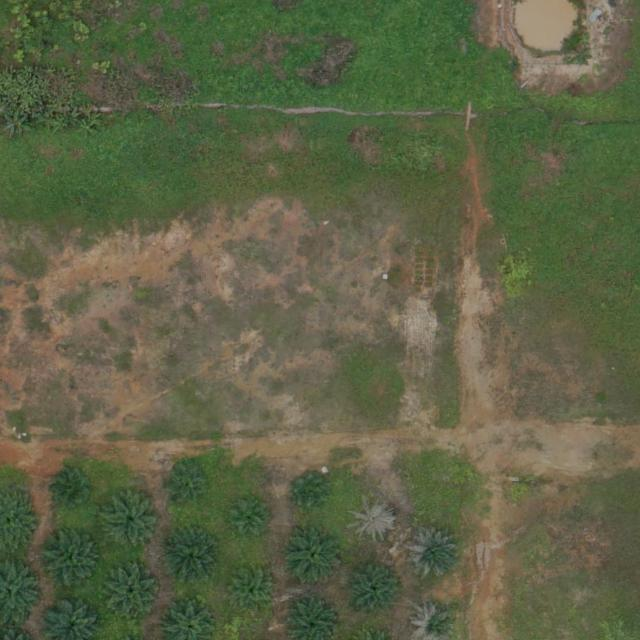Kelapa_Sawit: (39, 528, 101, 591), (100, 489, 162, 552), (282, 525, 344, 587), (344, 559, 406, 621), (105, 567, 160, 622), (164, 531, 219, 586), (404, 526, 459, 581), (41, 595, 98, 640), (0, 560, 38, 624), (284, 593, 336, 639), (0, 489, 36, 554), (161, 595, 212, 640), (349, 496, 395, 543), (227, 570, 273, 616), (404, 599, 451, 639), (168, 466, 207, 505), (229, 495, 268, 534), (54, 467, 93, 506), (289, 471, 327, 509)
